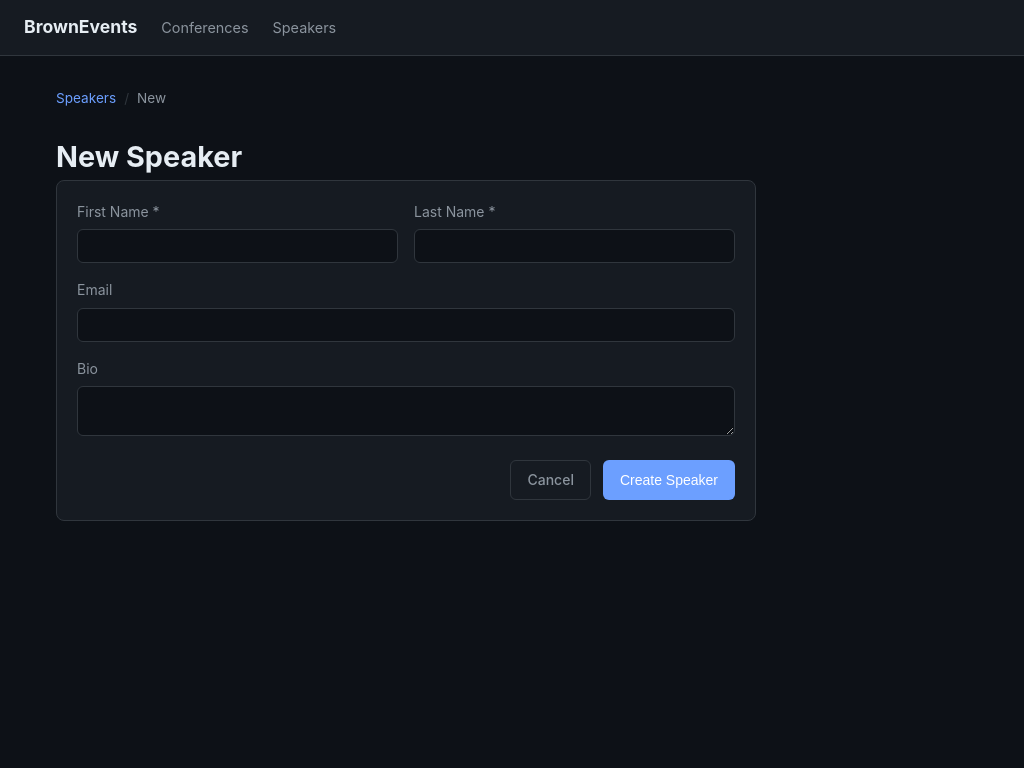
shows the API error message when creation fails
The image size is (1024, 768).
In the field labelled "First Name *": [238, 246] box [77,229,398,263], type "Ada"
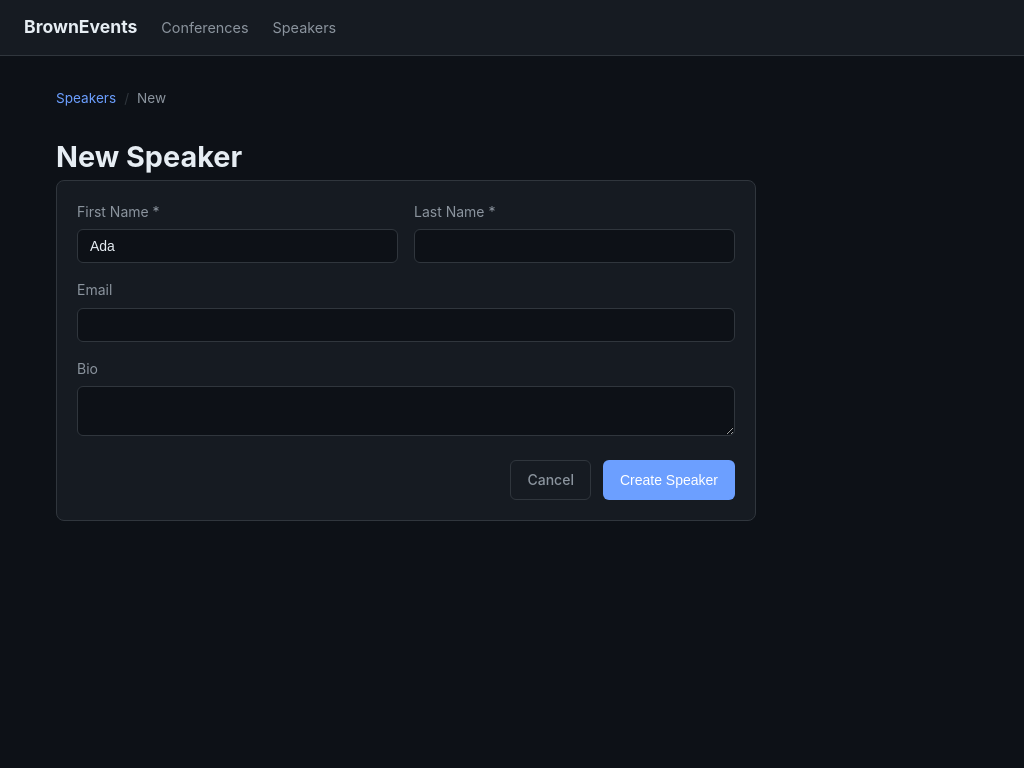
In the field labelled "Last Name *": [574, 246] box [414,229,735,263], type "Lovelace"
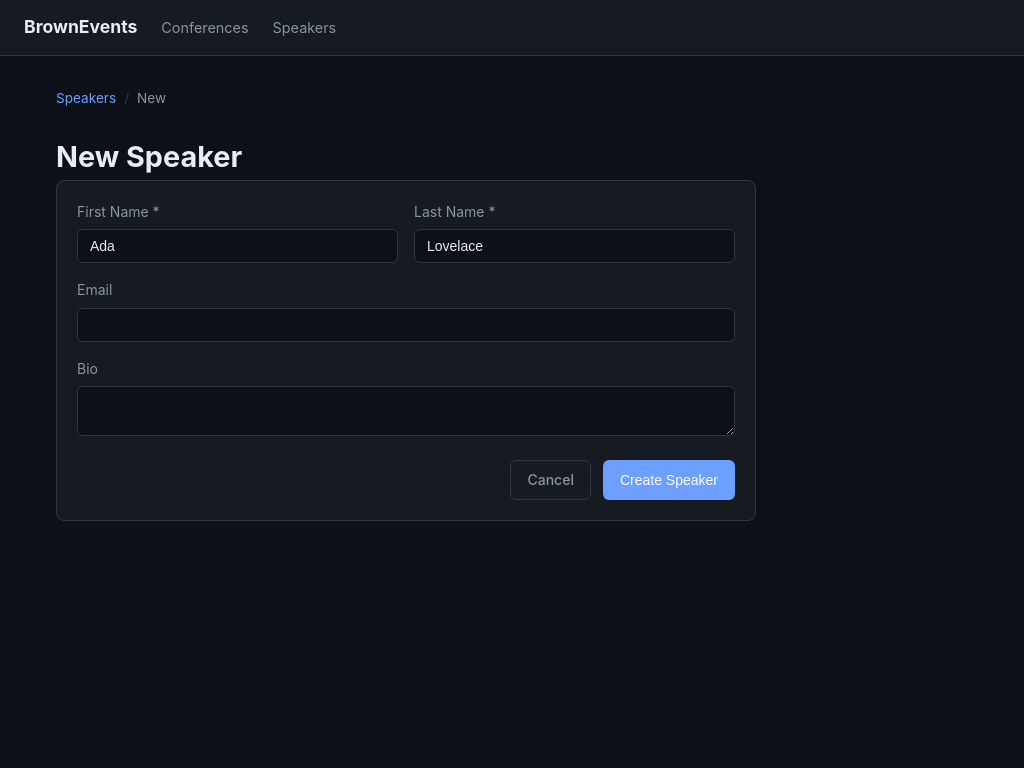
Click the button "Create Speaker": [669, 480] box [603,460,735,500]
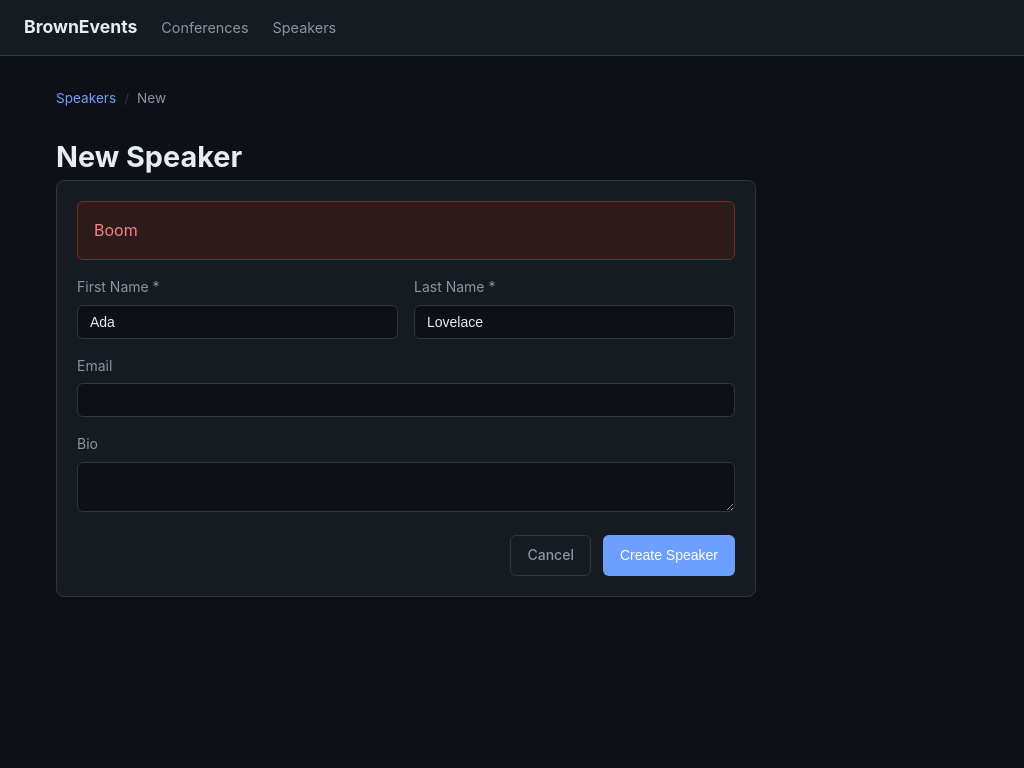
Expected: the text "Boom" is shown, [94,220,138,240]
